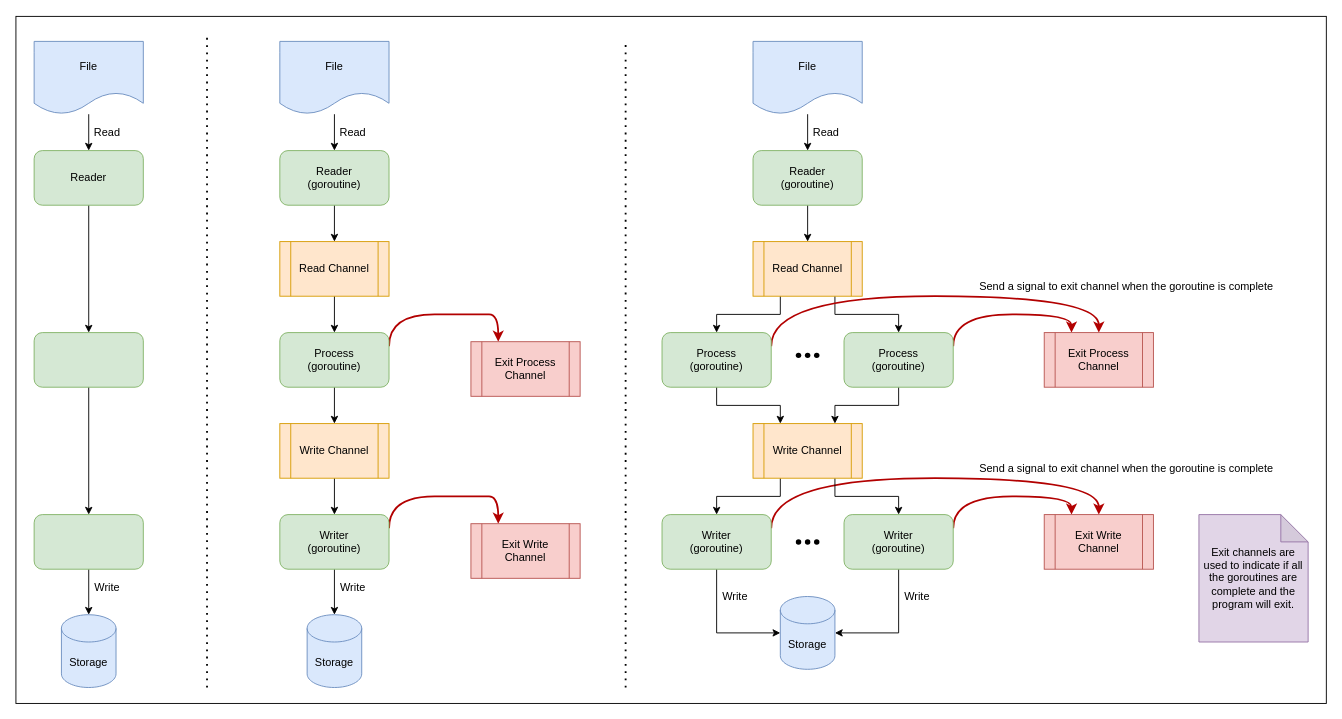
The diagram is 1342 pixels wide and 719 high, and some of its shapes have lost their labels. The centre of each missing label's shape, as x and y in pixels:
"Process" goes at [88,359].
"Writer" goes at [88,541].
